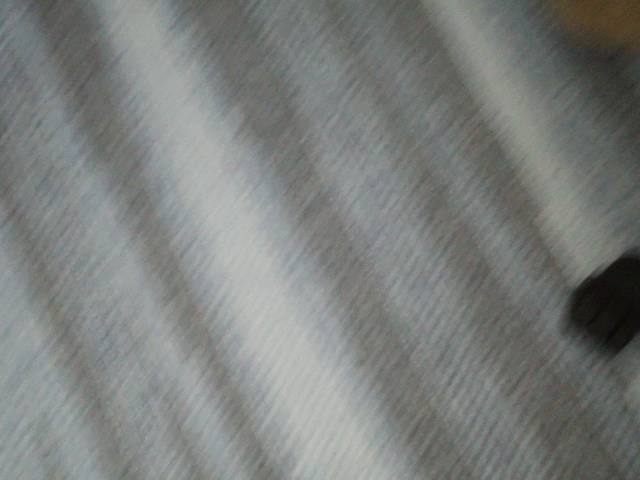shadow: (566, 248, 640, 362), (563, 32, 640, 119)
